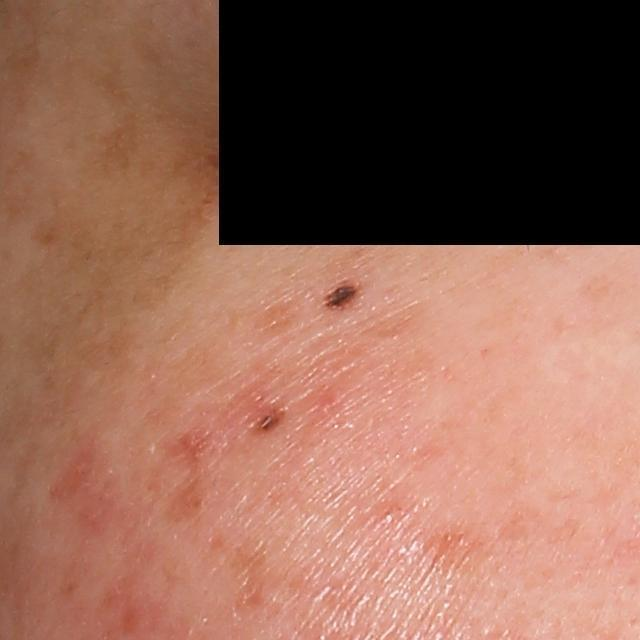melasma: (20, 206, 224, 325), (86, 68, 150, 186), (159, 478, 212, 532)
nevus: (316, 278, 365, 315), (249, 403, 294, 432)
